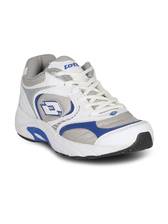shoes: (13, 53, 156, 160)
